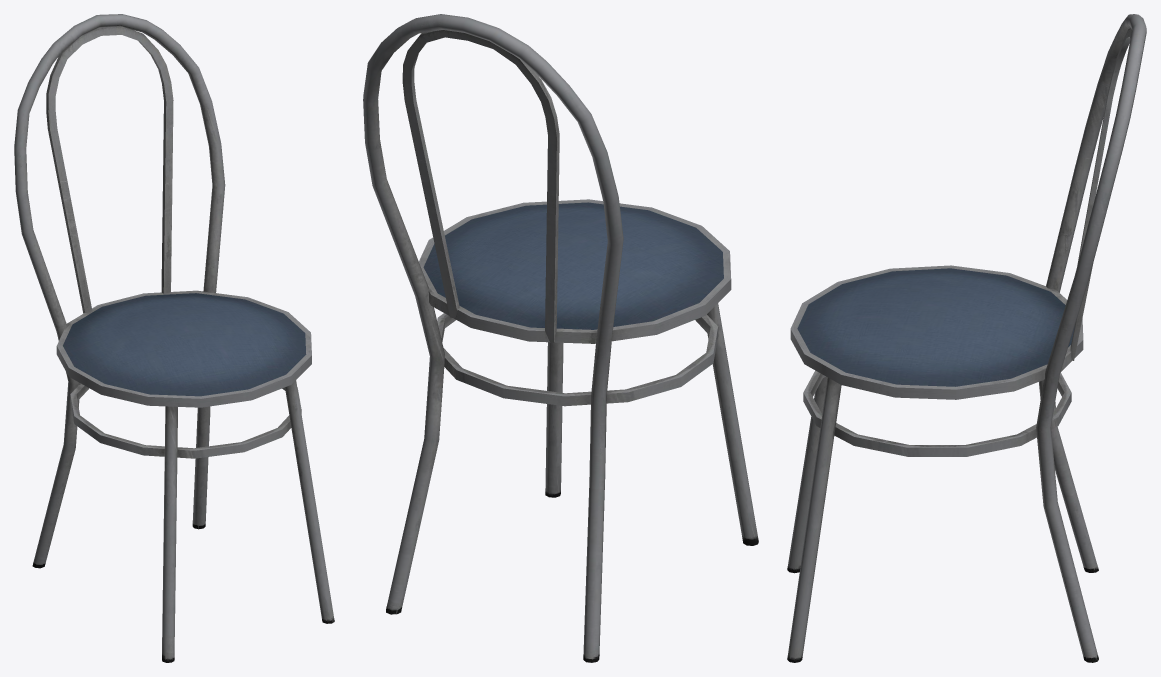
File: SM_Chair_03.glb
3 views of the same model, side by side, from view 1: azimuth 30°, elevation 25°; view 2: azimuth 150°, elevation 25°; view 3: azimuth 270°, elevation 25° (orthographic). The views are drawn at different scales.
Visible parts, largest first — view 1: SM_Chair_03; view 2: SM_Chair_03; view 3: SM_Chair_03.
Part boxes in pixels (<box>): SM_Chair_03: <box>14,14,334,662</box>; SM_Chair_03: <box>363,14,758,662</box>; SM_Chair_03: <box>787,14,1146,662</box>.
Bounding box in the file's own units: 0.5065 × 1.12 × 0.6195.
1 material, 1 textured.
